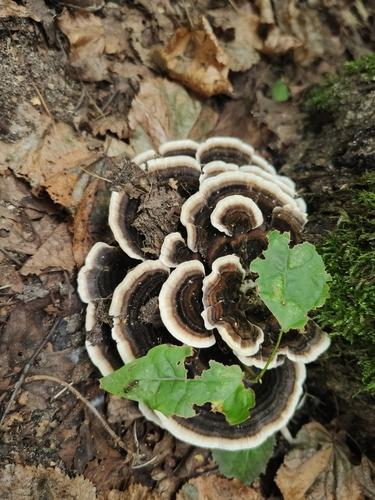Non-edible Mushroom: (76, 135, 331, 451)
